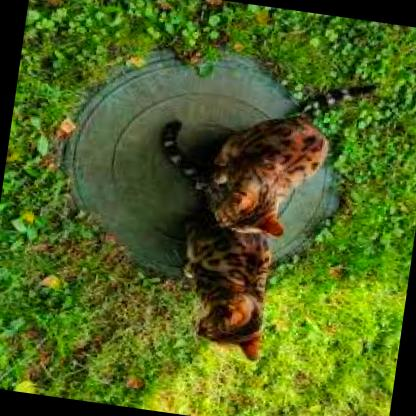manholes: (29, 3, 387, 324)
